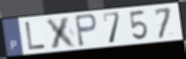5: (128, 10, 150, 42)
7: (155, 6, 173, 40), (103, 11, 121, 45)
L: (24, 21, 48, 51)
P: (74, 13, 99, 48)
X: (44, 15, 79, 50)
